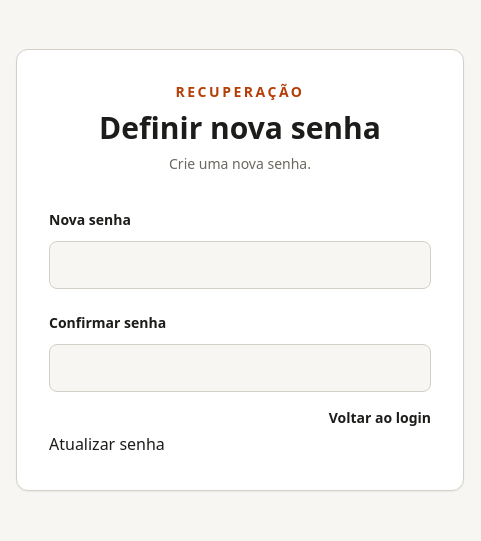
Test case: ResetPasswordPage › submits the reset token and new password without storing a session
This screenshot has width=481, height=541.
Type "Password123" into the password field labelled "Nova senha" at (240,265), box x1=49 y1=241 x2=431 y2=289
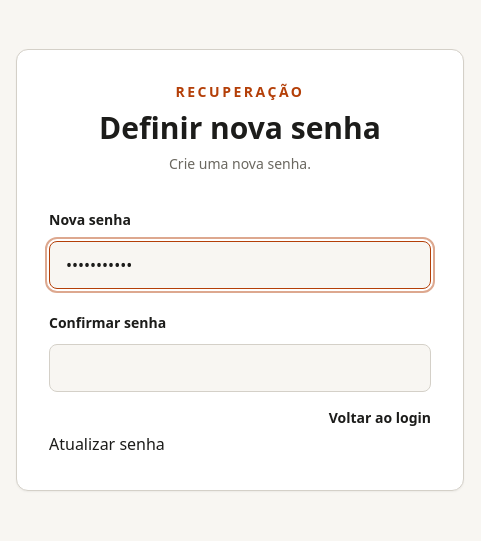
Type "Password123" into the password field labelled "Confirmar senha" at (240,368), box x1=49 y1=344 x2=431 y2=392
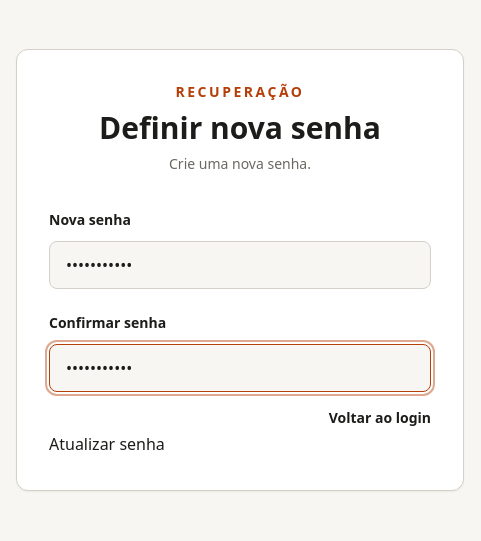
Click the button "Atualizar senha" at (107,445), box x1=49 y1=431 x2=165 y2=458
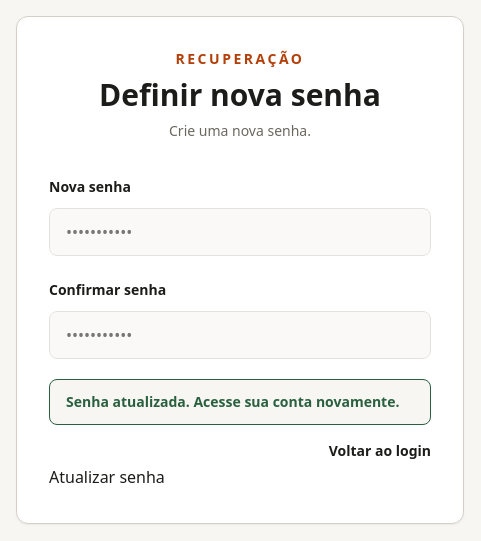
Expected: the text "Senha atualizada. Acesse sua conta novamente." is shown, x1=49 y1=379 x2=431 y2=425
